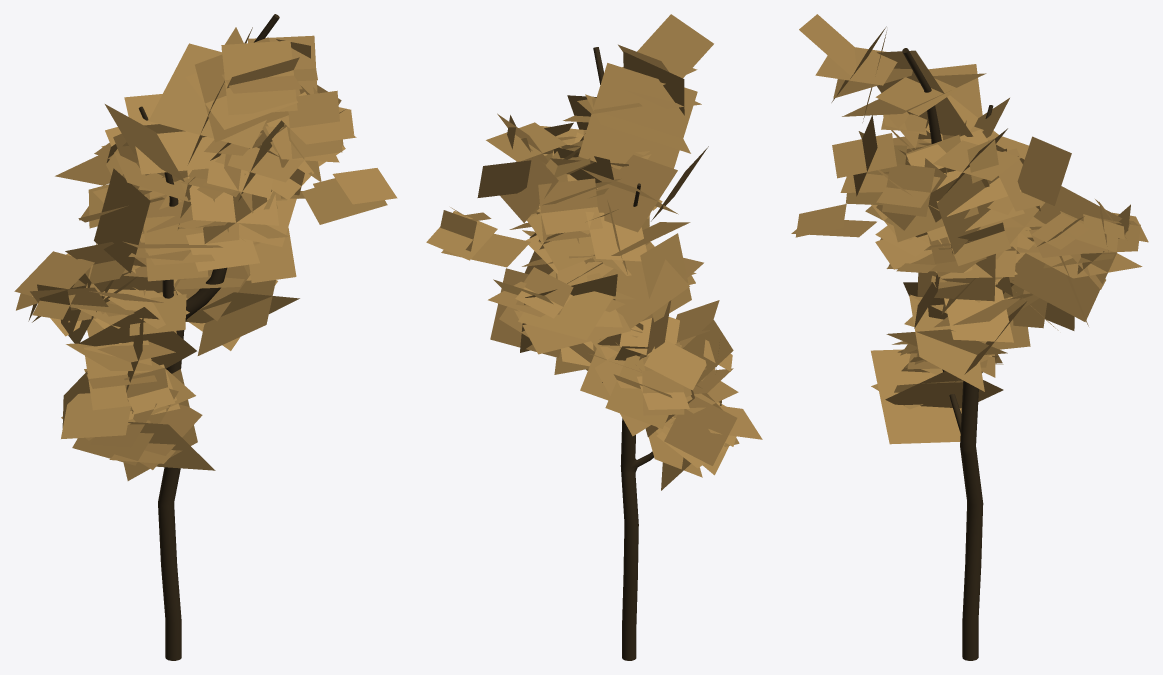
Rendered from Tree Small var1.fbx.
3 renders of one model, left to right at view 1: azimuth 30°, elevation 25°; view 2: azimuth 150°, elevation 25°; view 3: azimuth 270°, elevation 25°, orthographic. The views are drawn at different scales.
Parts seen in each view (by area): view 1: Small_Tree_01; view 2: Small_Tree_01; view 3: Small_Tree_01.
Boxes of the visible parts, bbox=[...] form: Small_Tree_01: bbox=[14, 14, 397, 660]; Small_Tree_01: bbox=[426, 14, 762, 660]; Small_Tree_01: bbox=[791, 14, 1148, 660].
Bounding box in the file's own units: 4.1 × 8.75 × 4.39.
